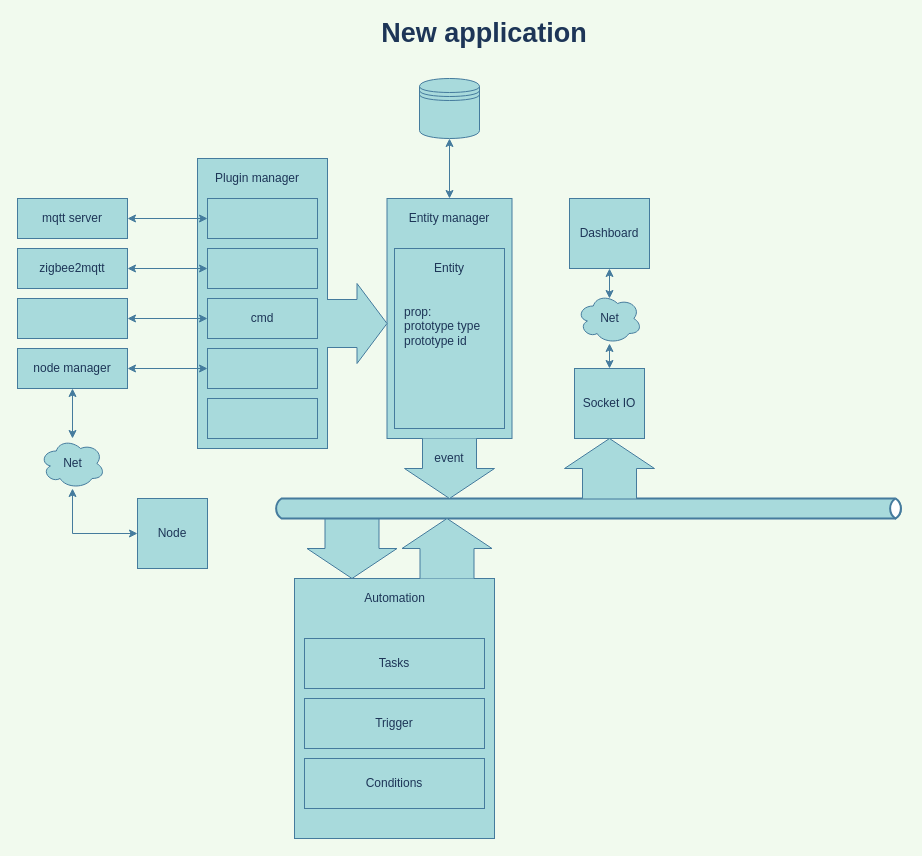
Some shapes in this 922 by 856 pixel diagram are drawn without their labels. The shapes that lost their labels are listed below. From the top down, each one's box as (x1, y1, x2, y2) in pixels, then its label:
(418, 78, 480, 138): DB
(206, 198, 318, 238): mqtt
(206, 248, 318, 288): zigbee
(16, 298, 128, 338): system io
(206, 348, 318, 388): modbus
(206, 398, 318, 438): etc
(272, 497, 904, 519): Event BUS
